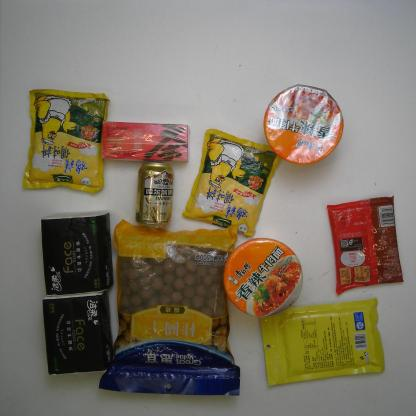Alcohol: (135, 162, 175, 230)
Dessert: (324, 195, 405, 295)
Dried Food: (97, 220, 241, 395)
Dried Fruit: (260, 296, 386, 387)
Instant Drink: (100, 122, 191, 162)
Instant Noodles: (264, 84, 346, 166), (224, 237, 304, 318)
Seasoner: (182, 129, 282, 237), (22, 89, 111, 194)
Tissue: (40, 210, 113, 296), (42, 292, 112, 376)
